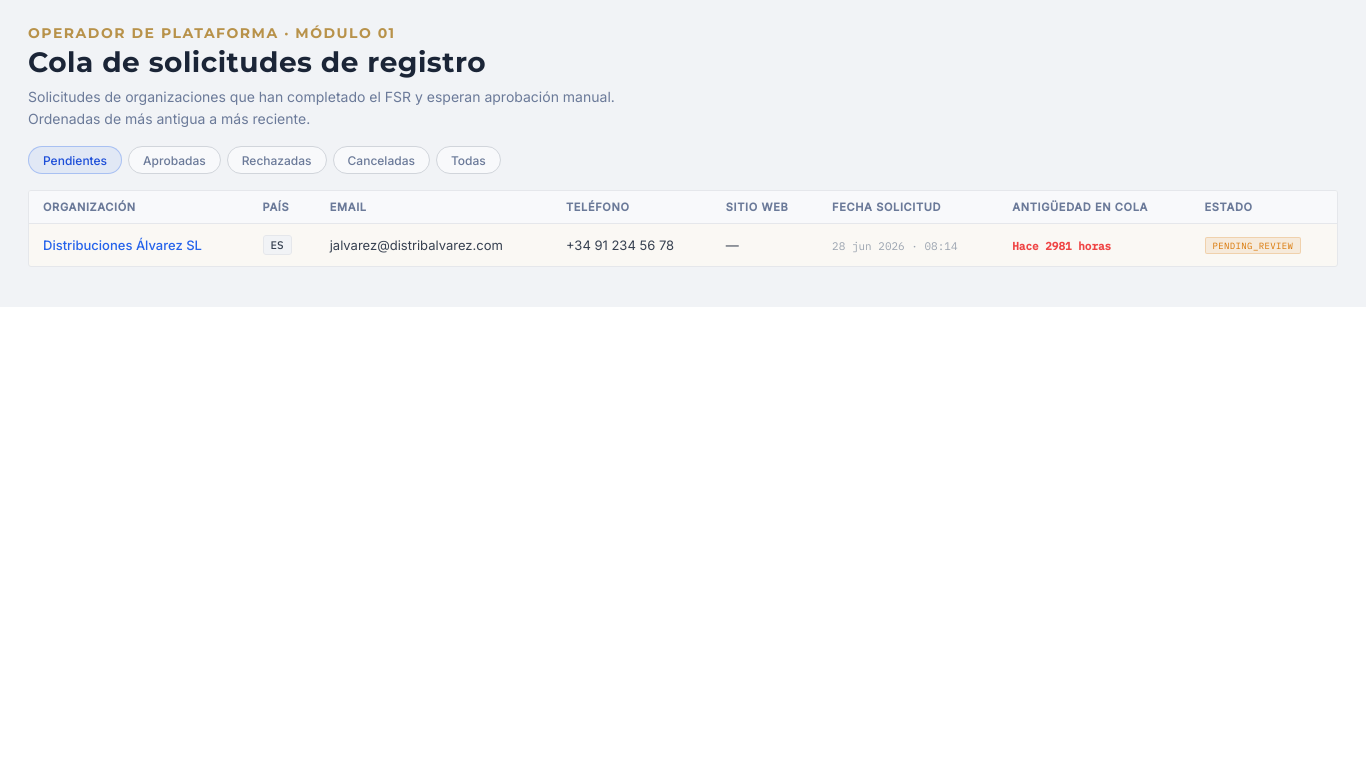
AdminRequests › pulsar una fila abre el panel de detalle y pide su historial
What coordinates should you click on to do the following:
click the button "Distribuciones Álvarez SL"
I would click on:
 (122, 245)
Its box is [43,237,202,253].
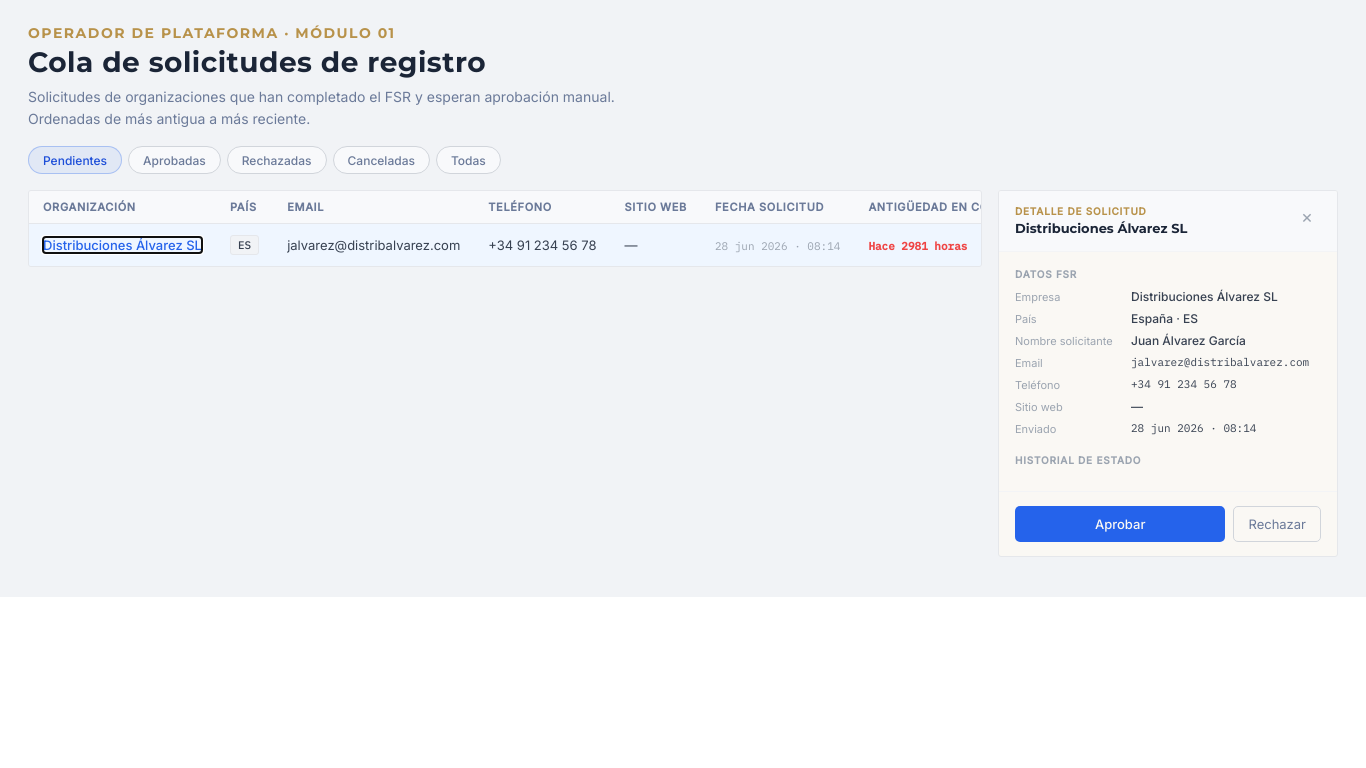
Now the text "Detalle de solicitud" is shown, box [1015,205,1147,217]
